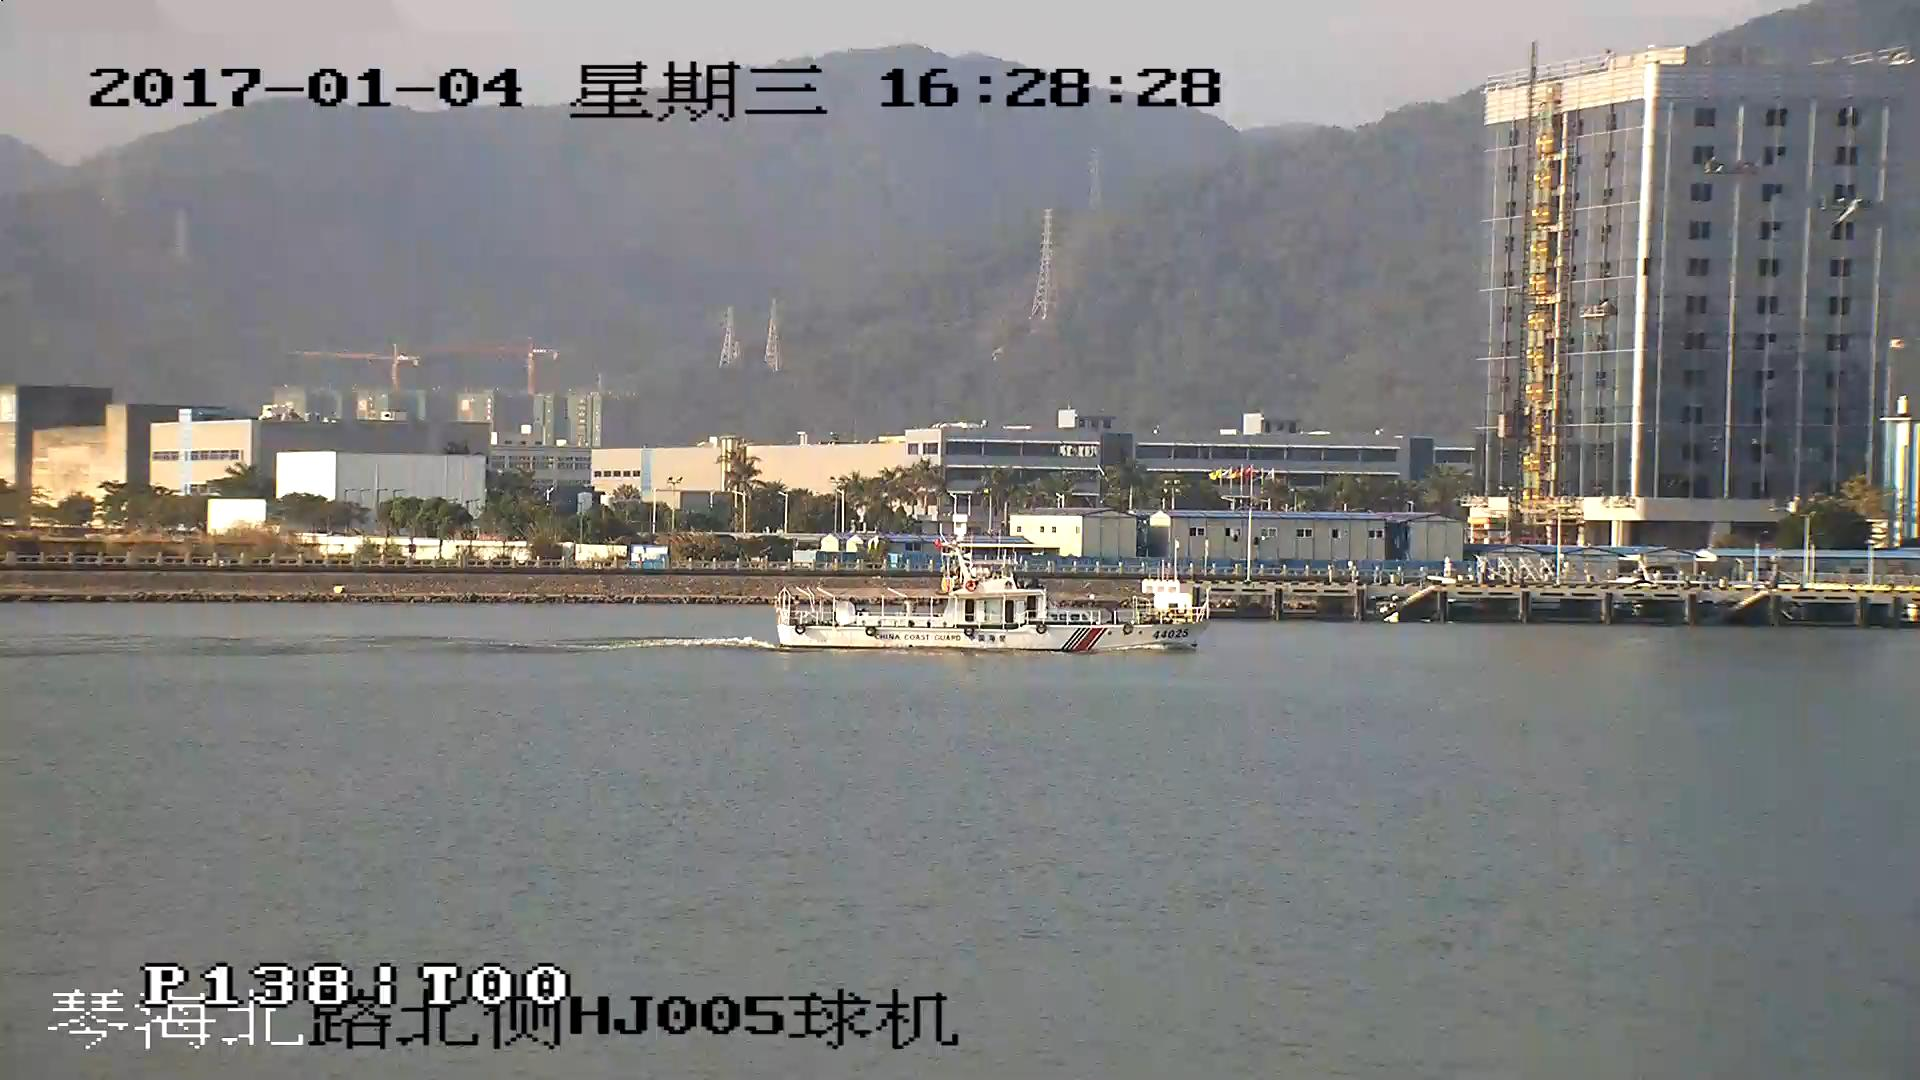passenger ship: (772, 536, 1206, 646)
